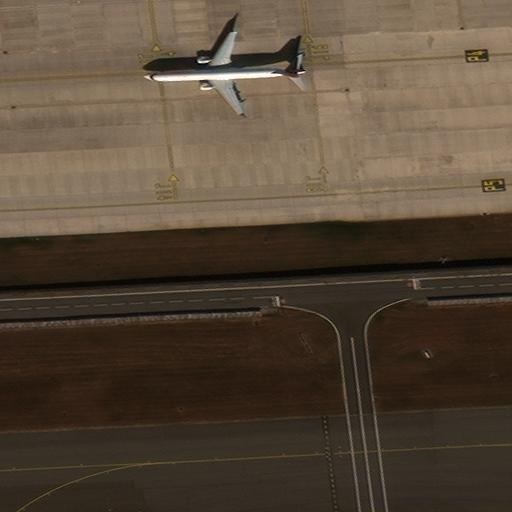Medium Civil Transport: (143, 31, 306, 115)
